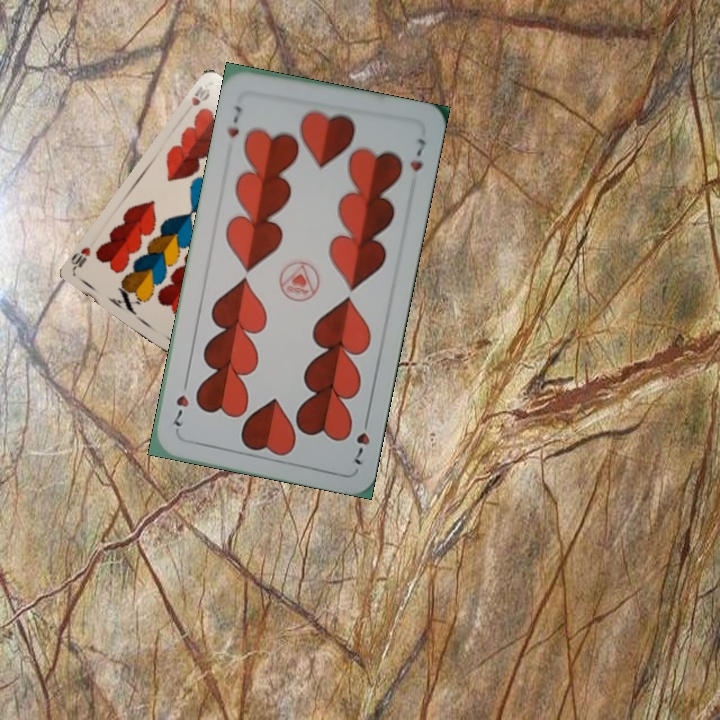H10: (187, 82, 213, 109)
H7: (350, 411, 373, 468), (221, 102, 244, 140)
